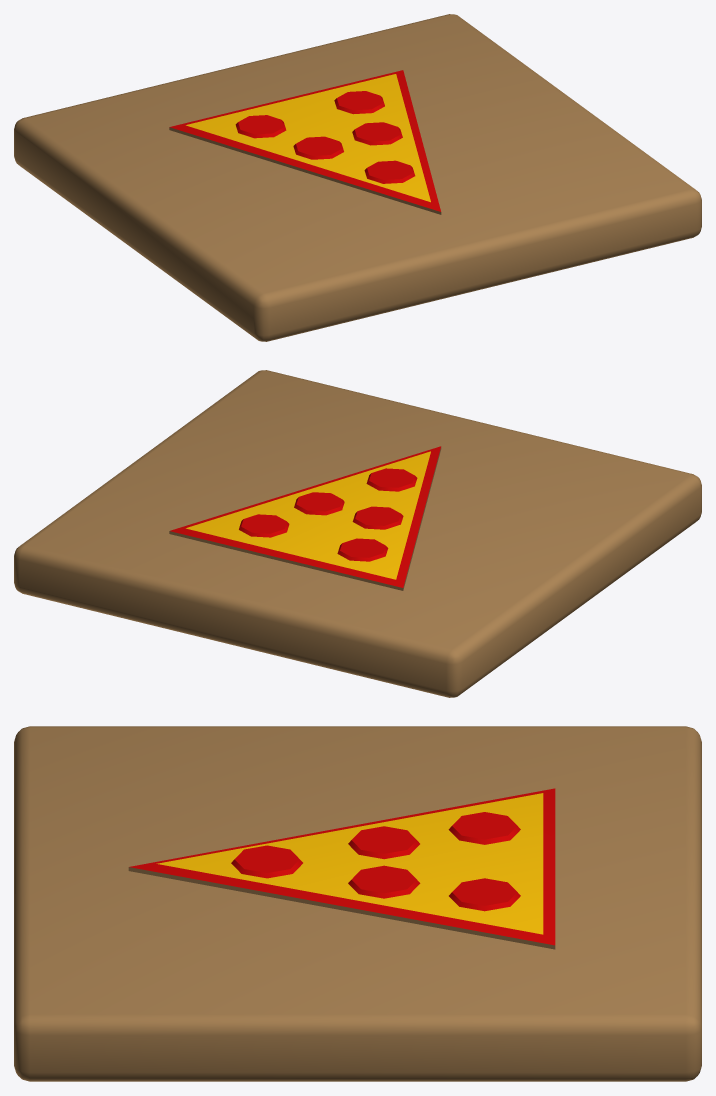
Rendered from Pizzaa Box.fbx.
3 views of the same model, one above another, from view 1: azimuth 30°, elevation 25°; view 2: azimuth 150°, elevation 25°; view 3: azimuth 270°, elevation 25° (orthographic). The views are drawn at different scales.
Visible parts, largest first — view 1: Pizzaa Box; view 2: Pizzaa Box; view 3: Pizzaa Box.
Part boxes in pixels (x1,y1,x2,y2): Pizzaa Box: (14, 14, 701, 341); Pizzaa Box: (14, 370, 701, 697); Pizzaa Box: (14, 726, 701, 1081).
Bounding box in the file's own units: 0.2397 × 0.0287 × 0.2323.
